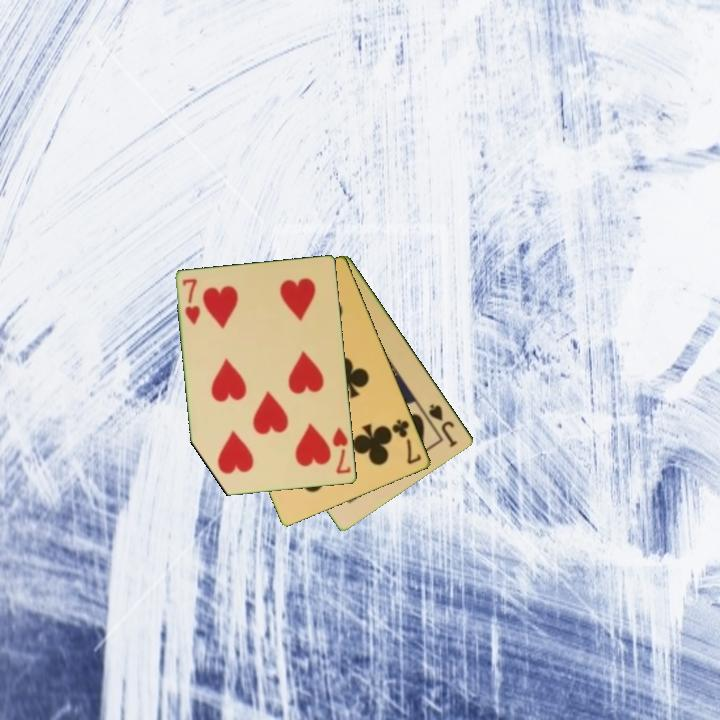7c: (389, 416, 424, 467)
7h: (329, 424, 354, 477), (179, 275, 204, 328)
Js: (425, 400, 461, 450)
